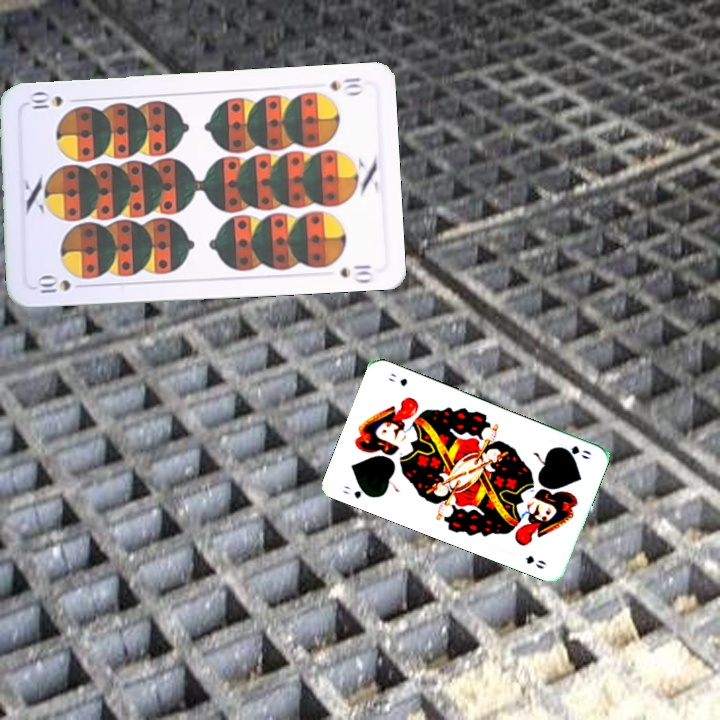GO: (553, 442, 594, 462), (338, 481, 375, 501)
S10: (33, 273, 90, 296), (326, 73, 366, 97)
